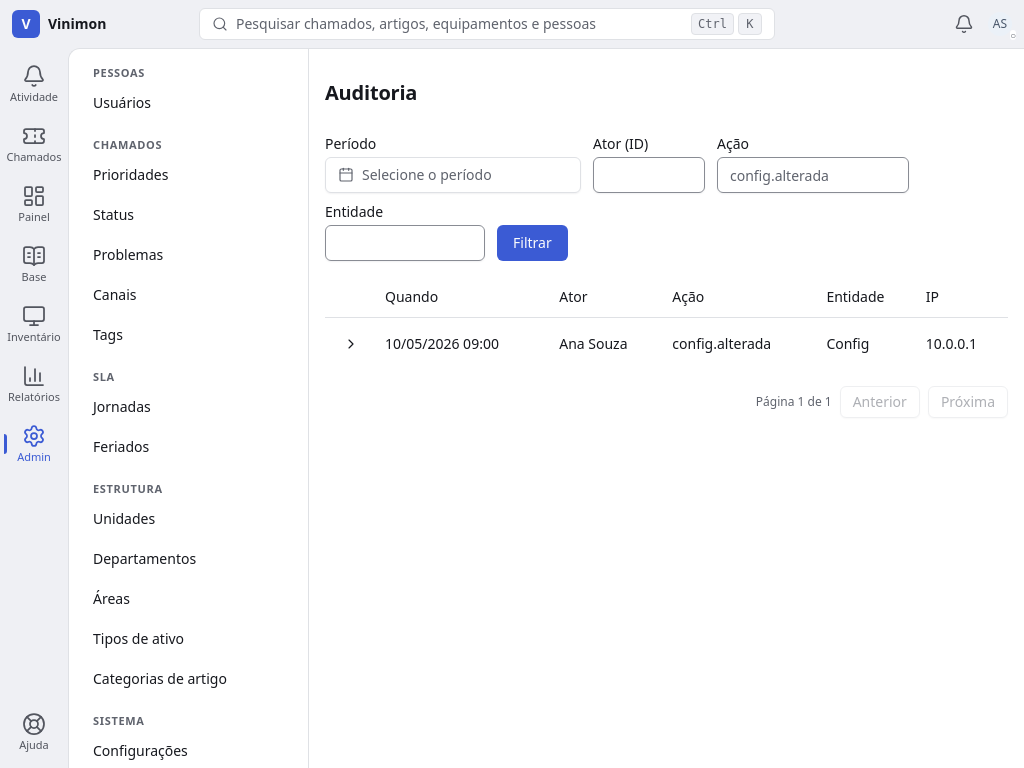
it: /admin/auditoria › lista o config.alterada e expande os dados
Expected: the text "config.alterada" is shown, [664, 317, 818, 370]
Expected: the text "Ana Souza" is shown, [551, 317, 664, 370]
Click the button named "Ver detalhes de config.alterada" at (351, 344), box [333, 326, 369, 362]
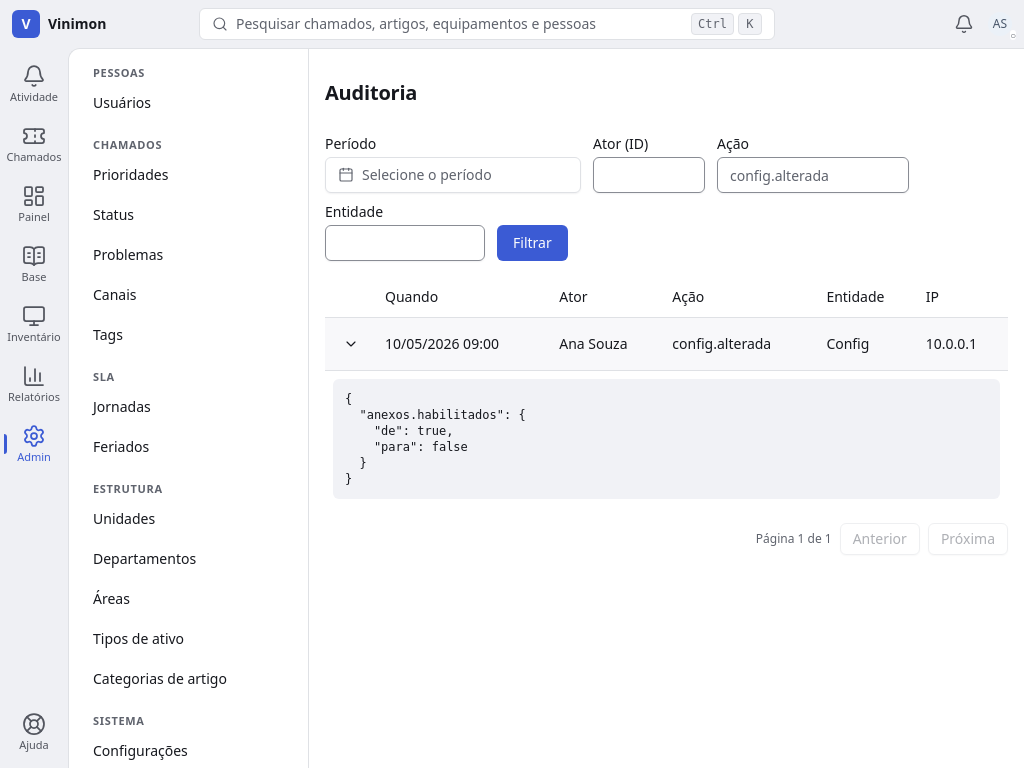
Now the text "{ \"anexos.habilitados\": { \"de\": true, \"para\": false } }" is shown, box [333, 378, 1000, 498]
